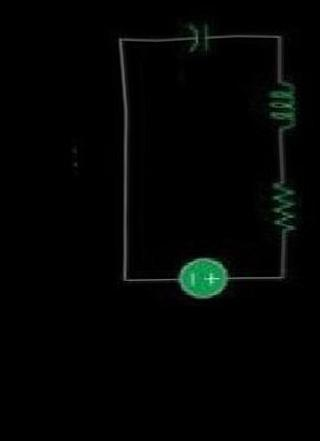Battery: (161, 239, 241, 328)
